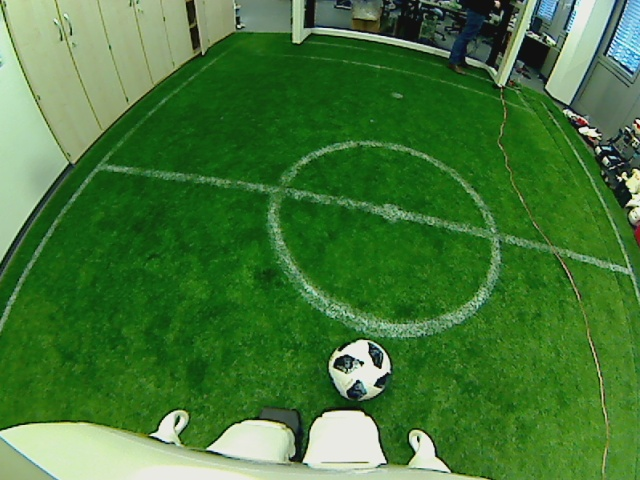ball: (325, 338, 393, 403)
